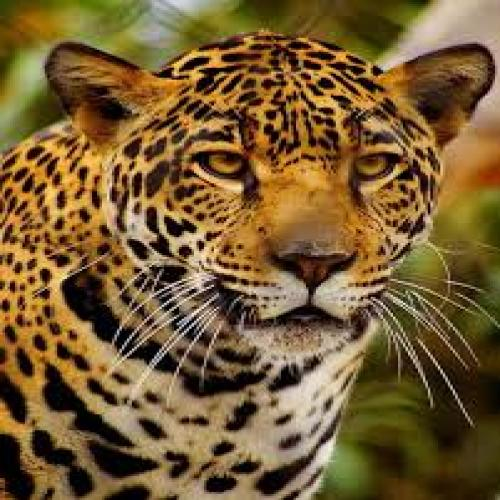jaguar_not-endangered: (0, 28, 493, 500)
